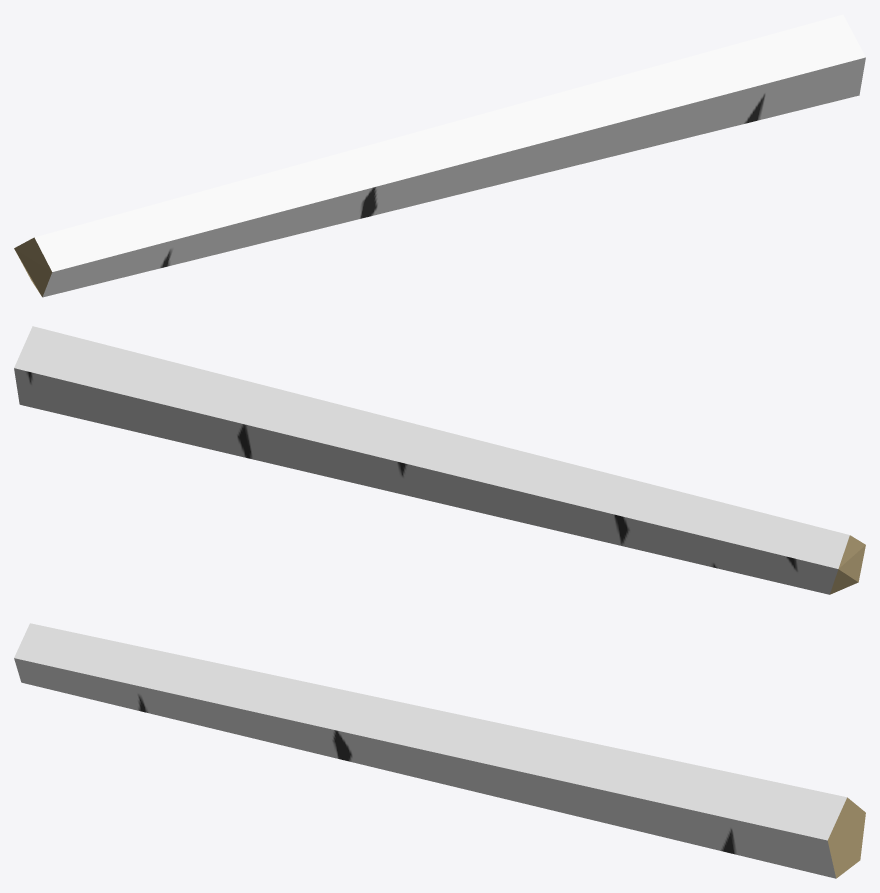
The model's file is Birch_Log_Snow_01_LOD.fbx.
3 views of the same model, one above another, from view 1: azimuth 30°, elevation 25°; view 2: azimuth 150°, elevation 25°; view 3: azimuth 330°, elevation 25° (orthographic).
Visible parts, largest first — view 1: Birch_Log_Snow_01_LOD0; view 2: Birch_Log_Snow_01_LOD0; view 3: Birch_Log_Snow_01_LOD0.
Boxes of the visible parts, left/top/right/bottom form: Birch_Log_Snow_01_LOD0: left=14, top=14, right=865, bottom=297; Birch_Log_Snow_01_LOD0: left=14, top=326, right=865, bottom=594; Birch_Log_Snow_01_LOD0: left=14, top=623, right=865, bottom=878.
Size of what is drawn, in the model's own units: 363 by 30.15 by 33.35.
